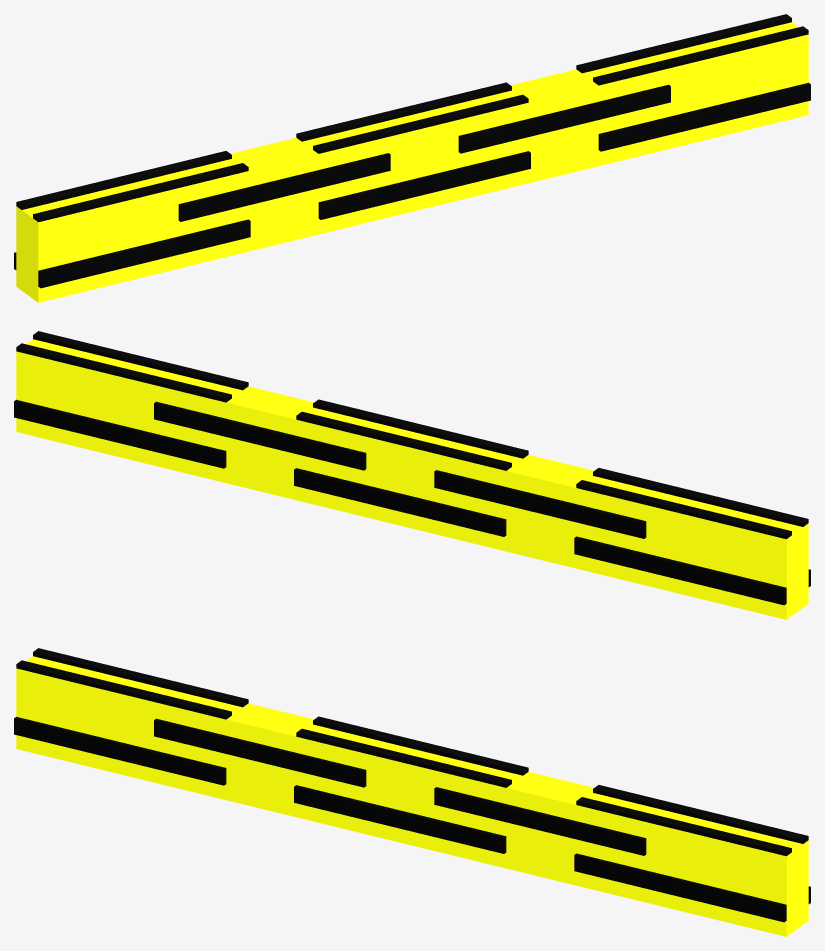
The model's file is Border_short.fbx.
The picture shows the model from 3 angles, top to bottom: view 1: azimuth 30°, elevation 25°; view 2: azimuth 150°, elevation 25°; view 3: azimuth 330°, elevation 25°; orthographic projection.
Visible parts, largest first — view 1: Border_short; view 2: Border_short; view 3: Border_short.
Part boxes in pixels (x1,y1,x2,y2): Border_short: (14, 14, 810, 302); Border_short: (14, 331, 810, 619); Border_short: (14, 648, 810, 936).
Bounding box in the file's own units: 10 × 1.05 × 0.6.
